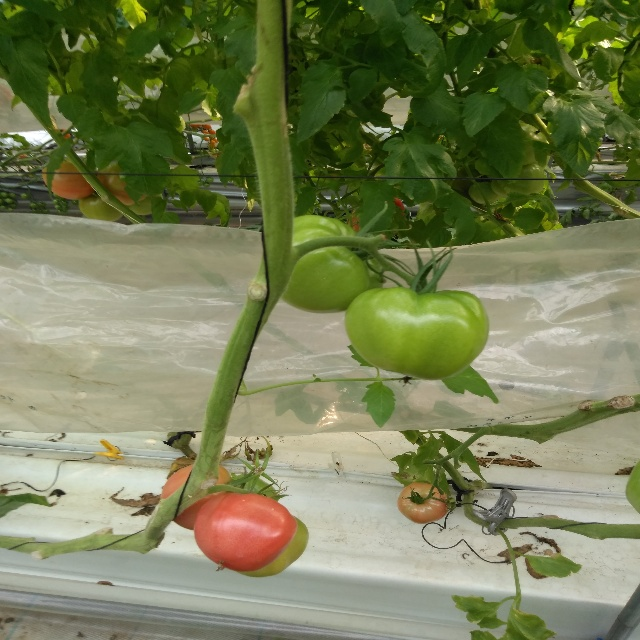b_fully_ripened: (193, 492, 297, 571)
b_green: (346, 287, 489, 380), (268, 214, 382, 313), (234, 515, 309, 577), (228, 473, 279, 502)
b_half_ripened: (161, 462, 232, 531), (397, 482, 449, 524)
